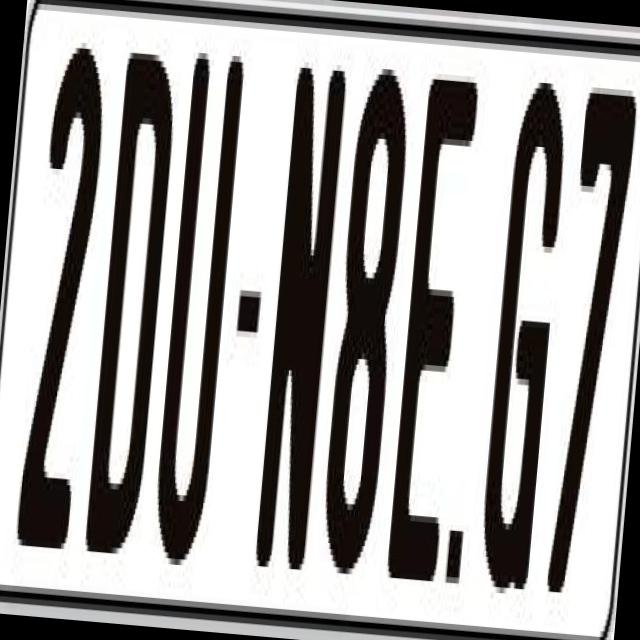2: (10, 34, 114, 544)
7: (540, 74, 636, 606)
8: (314, 49, 416, 576)
D: (82, 34, 179, 566)
E: (379, 78, 482, 616)
G: (478, 63, 578, 572)
N: (250, 67, 350, 576)
U: (148, 46, 250, 585)
